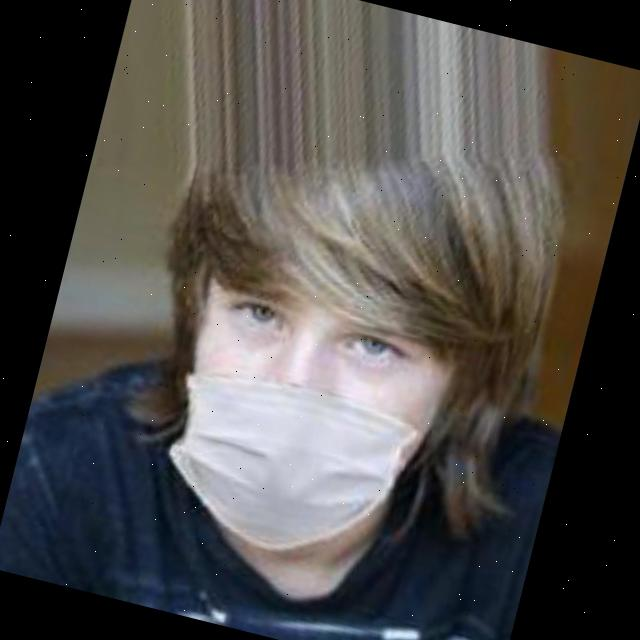suspicion: (101, 174, 506, 578)
